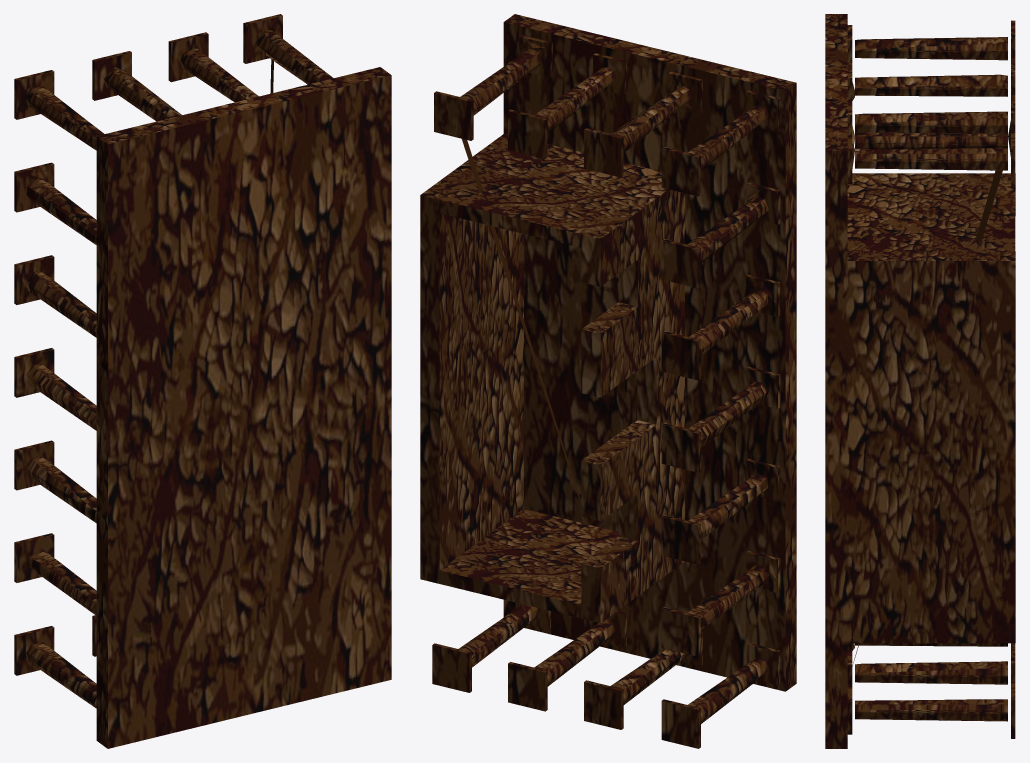
Rendered from columnedbuilding1K_wtf.obj.
3 views of the same model, side by side, from view 1: azimuth 30°, elevation 25°; view 2: azimuth 150°, elevation 25°; view 3: azimuth 270°, elevation 25° (orthographic).
Parts seen in each view (by area): view 1: group2, group15, group6, group8, group10, group5, group7, group9, group14, group13, group12; view 2: group2, group15, group6, group8, group10, group5, group9, group14, group7, group12, group13, group3 (+2 smaller); view 3: group2, group14, group4, group7, group3, group13, group12, group6, group11, group15.
Boxes of the visible parts, box(x1,y1,x2,y2) form: group2: box(96, 67, 391, 748); group15: box(14, 59, 273, 430); group6: box(14, 162, 96, 244); group8: box(14, 440, 96, 523); group10: box(14, 626, 96, 708); group5: box(14, 255, 96, 337); group7: box(14, 70, 104, 150); group9: box(14, 533, 96, 615); group14: box(243, 14, 333, 84); group13: box(168, 32, 258, 102); group12: box(92, 51, 181, 121); group2: box(420, 14, 796, 691); group15: box(462, 139, 780, 628); group6: box(661, 182, 780, 288); group8: box(661, 458, 780, 564); group10: box(661, 643, 780, 748); group5: box(661, 274, 780, 380); group9: box(661, 551, 780, 656); group14: box(434, 35, 552, 140); group7: box(661, 90, 780, 196); group12: box(584, 71, 702, 177); group13: box(508, 53, 626, 158); group3: box(508, 611, 626, 711); group2: box(825, 14, 1015, 748); group14: box(847, 131, 1015, 187); group4: box(847, 682, 1015, 738); group7: box(847, 20, 1015, 62); group3: box(847, 645, 1015, 686); group13: box(847, 95, 1015, 135); group12: box(847, 58, 1015, 100); group6: box(852, 121, 1010, 156); group11: box(847, 643, 1015, 650); group15: box(852, 170, 1002, 666).
Bounding box in the file's own units: 324 × 660 × 190.
